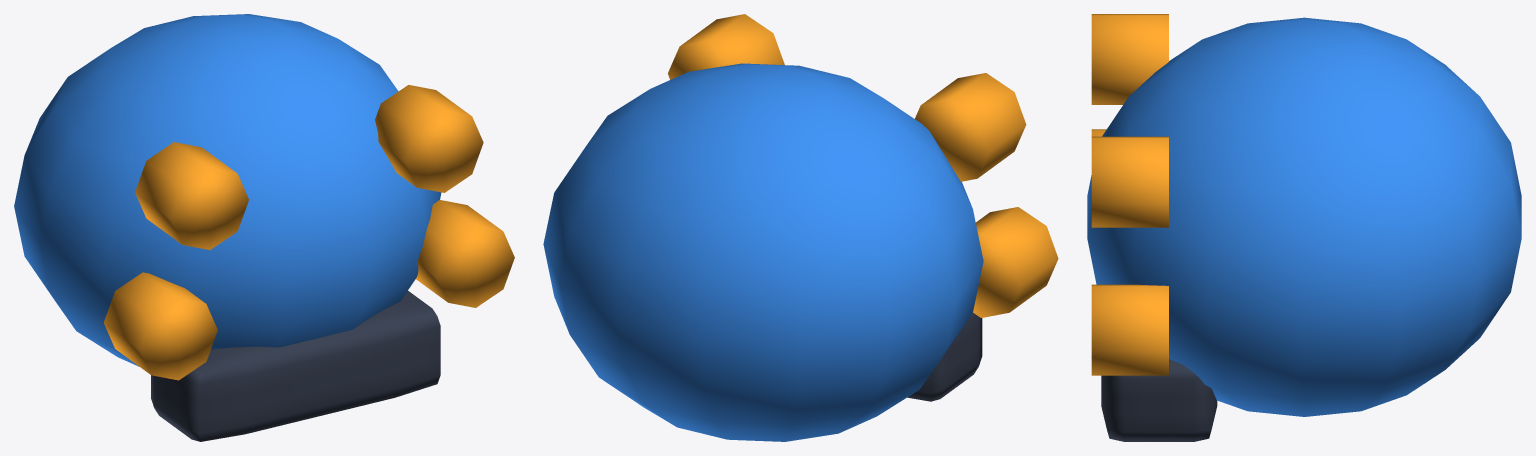
Rendered from head_arachnid.obj.
3 renders of one model, left to right at view 1: azimuth 30°, elevation 25°; view 2: azimuth 150°, elevation 25°; view 3: azimuth 270°, elevation 25°, orthographic. The views are drawn at different scales.
Size of the model in its own units: 0.48 by 0.4 by 0.4485.
